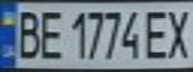1: (63, 7, 87, 60)
4: (121, 7, 145, 61)
7: (84, 7, 106, 60), (103, 7, 124, 61)
B: (12, 6, 45, 61)
E: (142, 7, 172, 61), (36, 6, 66, 60)
X: (163, 6, 193, 60)
